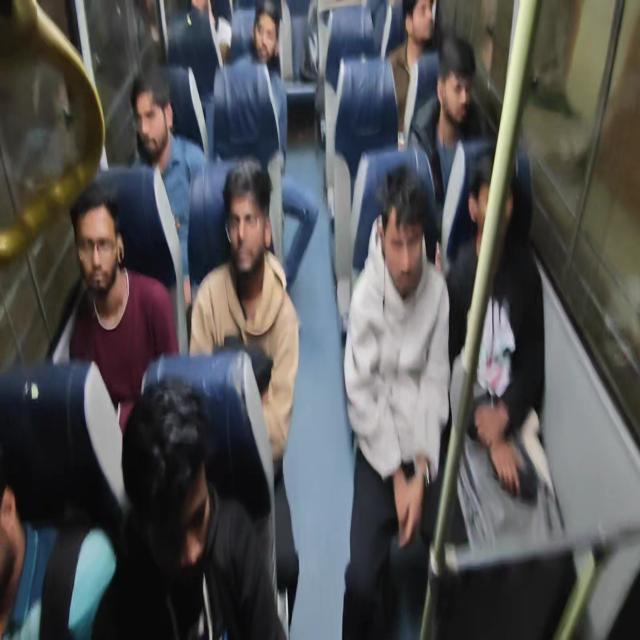person: (122, 372, 225, 570), (214, 150, 286, 306), (379, 160, 437, 304), (62, 174, 126, 292), (439, 38, 481, 150), (472, 154, 515, 260), (129, 71, 171, 160), (251, 8, 282, 72), (403, 2, 436, 48), (186, 0, 212, 28)
